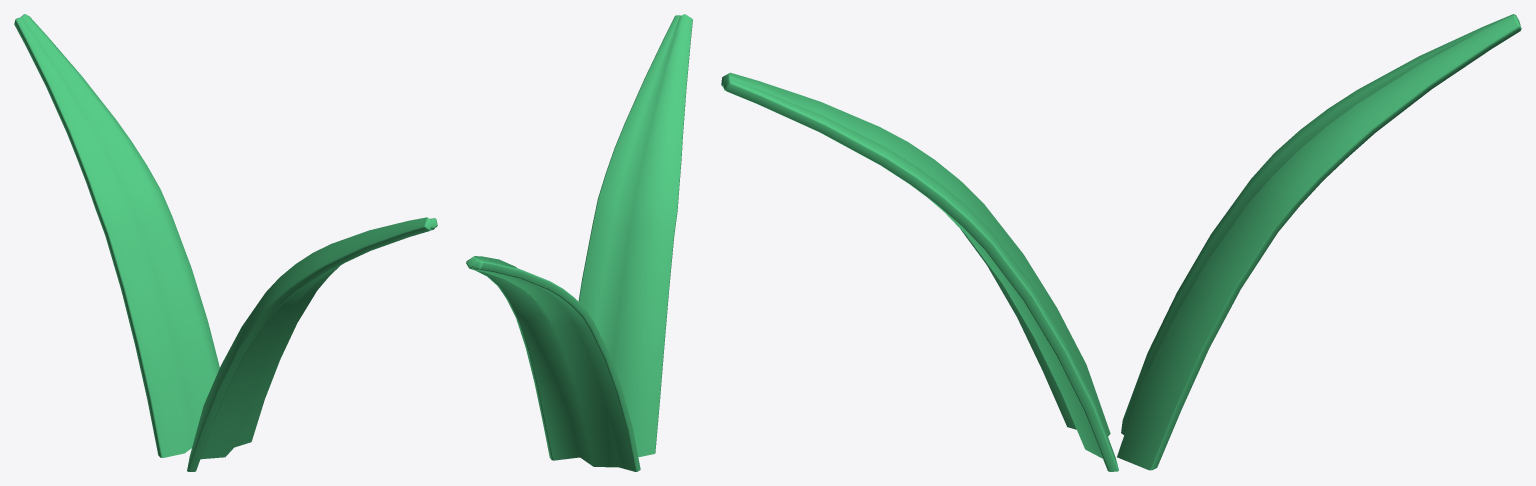
The model's file is Town_10_Grass_2.glb.
3 renders of one model, left to right at view 1: azimuth 30°, elevation 25°; view 2: azimuth 150°, elevation 25°; view 3: azimuth 270°, elevation 25°, orthographic. The views are drawn at different scales.
Visible parts, largest first — view 1: Town_10_Grass_2; view 2: Town_10_Grass_2; view 3: Town_10_Grass_2.
Part boxes in pixels (x1,y1,x2,y2): Town_10_Grass_2: [14, 14, 437, 471]; Town_10_Grass_2: [466, 14, 692, 471]; Town_10_Grass_2: [721, 14, 1521, 471].
Bounding box in the file's own units: 0.1498 × 0.3771 × 0.659.
1 material, 1 textured.
